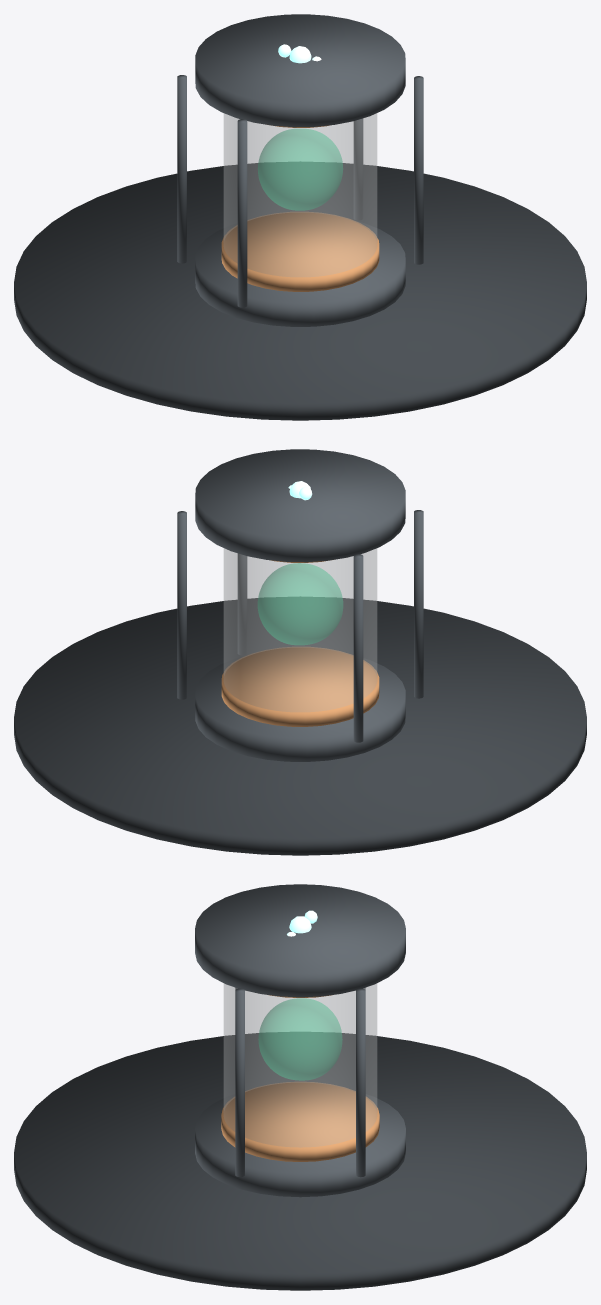
Rendered from goo_lab.glb.
3 renders of one model, top to bottom at view 1: azimuth 30°, elevation 25°; view 2: azimuth 150°, elevation 25°; view 3: azimuth 270°, elevation 25°, orthographic.
Parts seen in each view (by area): view 1: Lab_Platform, Chamber_Glass_Shield, Chamber_Cap_Top, Chamber_Base_Ring, Chamber_Base_Lower, Goo_Core, Chamber_Strut_3, Chamber_Strut_4, Chamber_Strut_2, Chamber_Strut_1; view 2: Lab_Platform, Chamber_Glass_Shield, Chamber_Cap_Top, Chamber_Base_Ring, Chamber_Base_Lower, Goo_Core, Chamber_Strut_2, Chamber_Strut_1, Chamber_Strut_3, Chamber_Strut_4; view 3: Lab_Platform, Chamber_Glass_Shield, Chamber_Cap_Top, Chamber_Base_Ring, Chamber_Base_Lower, Goo_Core, Chamber_Strut_1, Chamber_Strut_4.
Part boxes in pixels (x1,y1,x2,y2): Lab_Platform: (14, 162, 586, 420); Chamber_Glass_Shield: (223, 113, 377, 276); Chamber_Cap_Top: (195, 14, 405, 127); Chamber_Base_Ring: (221, 211, 379, 291); Chamber_Base_Lower: (195, 221, 405, 326); Goo_Core: (258, 129, 342, 210); Chamber_Strut_3: (237, 119, 247, 307); Chamber_Strut_4: (414, 76, 423, 264); Chamber_Strut_2: (177, 75, 186, 263); Chamber_Strut_1: (353, 118, 363, 220); Lab_Platform: (14, 597, 586, 855); Chamber_Glass_Shield: (223, 548, 377, 711); Chamber_Cap_Top: (195, 449, 405, 562); Chamber_Base_Ring: (221, 646, 379, 726); Chamber_Base_Lower: (195, 656, 405, 761); Goo_Core: (258, 563, 342, 644); Chamber_Strut_2: (353, 554, 363, 742); Chamber_Strut_1: (177, 511, 186, 699); Chamber_Strut_3: (414, 510, 423, 698); Chamber_Strut_4: (237, 553, 247, 655); Lab_Platform: (14, 1032, 586, 1290); Chamber_Glass_Shield: (223, 983, 377, 1147); Chamber_Cap_Top: (195, 884, 405, 997); Chamber_Base_Ring: (221, 1081, 379, 1161); Chamber_Base_Lower: (195, 1094, 405, 1197); Goo_Core: (258, 998, 342, 1080); Chamber_Strut_1: (356, 988, 365, 1177); Chamber_Strut_4: (235, 988, 244, 1177).
Size of the model in its own units: 7.6 by 3.71 by 7.6.
